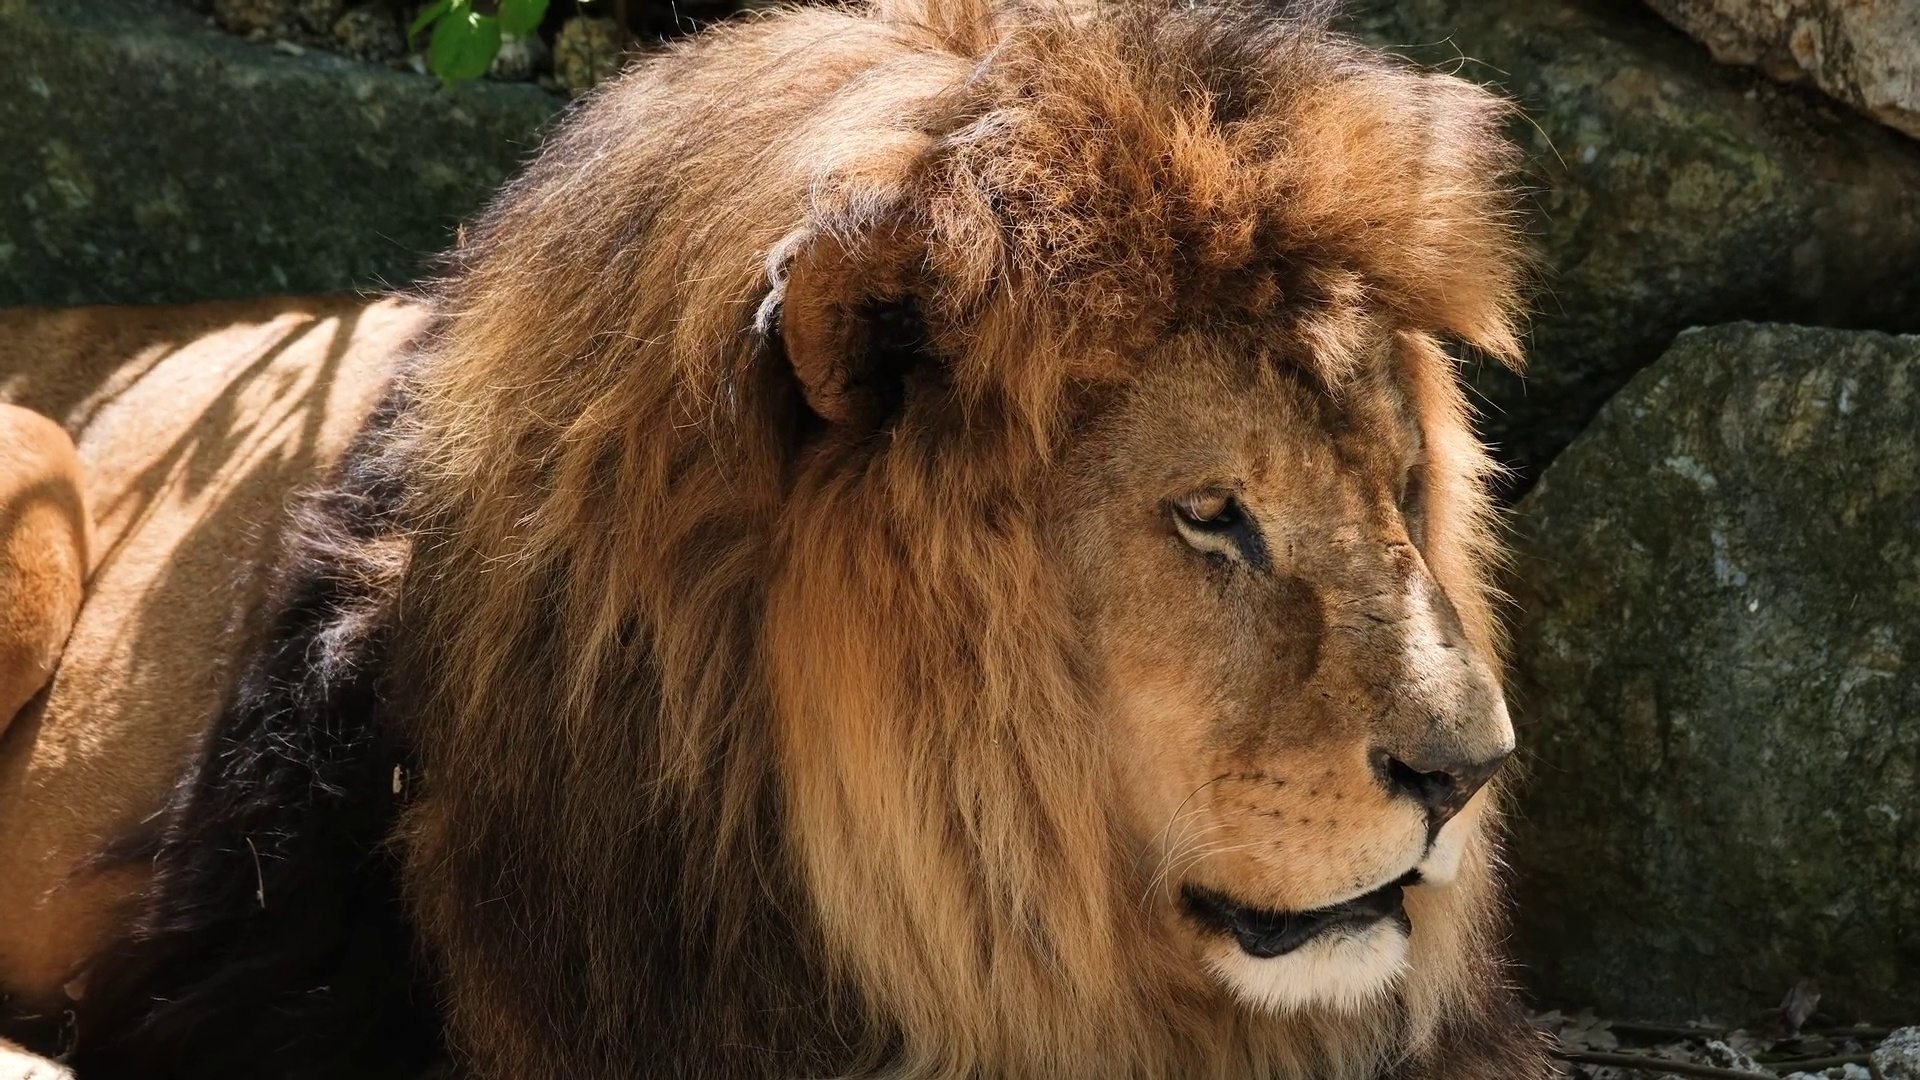Lion: (7, 4, 1549, 1080)
